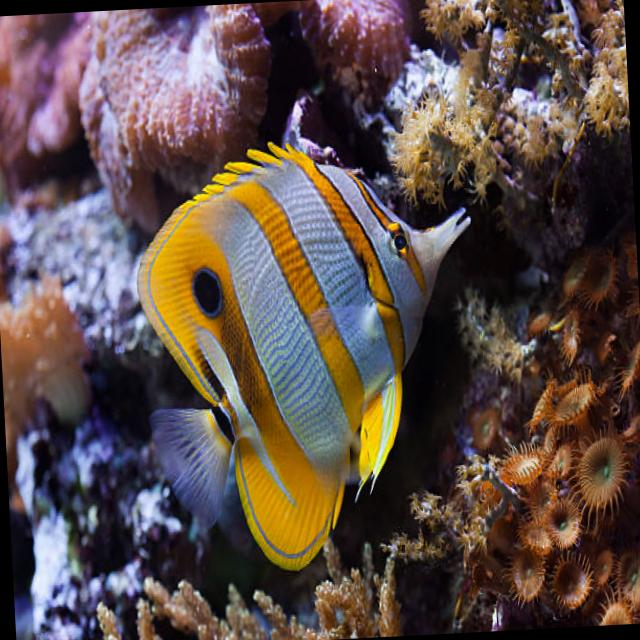ButterflyFish: (130, 124, 490, 580)
